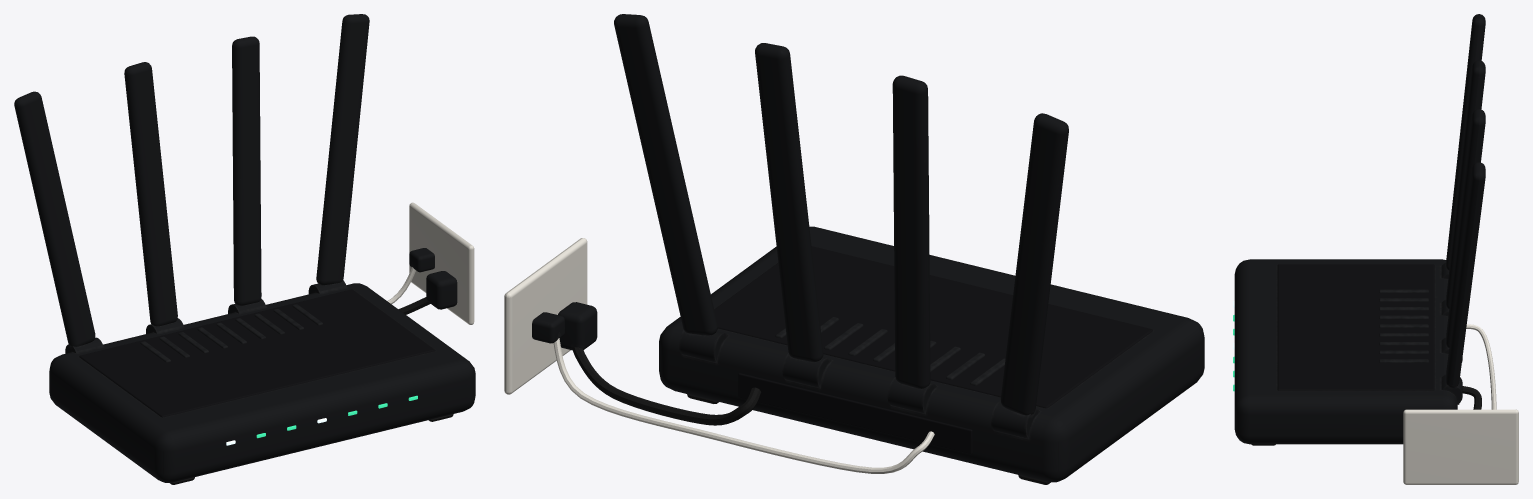
Rendered from SM_Router.glb.
The picture shows the model from 3 angles, left to right: view 1: azimuth 30°, elevation 25°; view 2: azimuth 150°, elevation 25°; view 3: azimuth 270°, elevation 25°; orthographic projection. The views are drawn at different scales.
Parts seen in each view (by area): view 1: SM_Router; view 2: SM_Router; view 3: SM_Router.
Part boxes in pixels (x1=…): SM_Router: x1=14, y1=14, x2=475, y2=484; SM_Router: x1=504, y1=14, x2=1204, y2=484; SM_Router: x1=1233, y1=14, x2=1518, y2=484.
Size of the model in its own units: 0.2762 by 0.1969 by 0.173.
7 materials, 7 textured.
